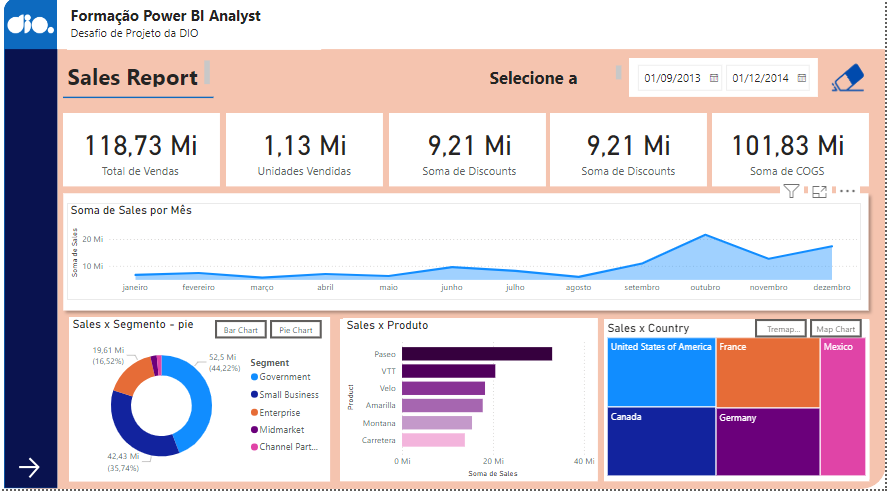

The page's visual inventory and layout, read from the dashboard file:
{"tool":"powerbi","page":{"name":"Vendas","canvas":[1280,720],"ordinal":0},"visuals":[{"type":"shape","box":[10,12.8,1270,707],"z":0},{"type":"slicer","fields":{"Values":["financials.Date"]},"box":[909.4,99.8,272.2,55.6],"z":0,"group":"g2"},{"type":"shape","box":[95.5,139.7,216.7,32.8],"z":0,"group":"g5"},{"type":"shape","box":[95.5,179.2,226.5,105.7],"z":0,"group":"g1"},{"type":"donutChart","title":"Sales x Segmento - pie","fields":{"Y":["Sum(financials. Sales)"],"Category":["financials.Segment"]},"box":[102.6,471.8,376.3,236.6],"z":0,"group":"g4"},{"type":"map","title":"Sales x Country","fields":{"Category":["financials.Country"],"Size":["Sum(financials. Sales)"]},"box":[873.8,476,382,228.1],"z":0,"group":"g3"},{"type":"actionButton","title":"Botão - bar","box":[312.8,476.4,74.5,26.6],"z":500,"group":"g4"},{"type":"actionButton","title":"Botão -pie","box":[392.6,476.4,74.5,26.6],"z":750,"group":"g4"},{"type":"shape","box":[10.1,13.4,77.2,706.3],"z":1000},{"type":"textbox","box":[96.9,98.4,215.2,48.5],"z":1000,"group":"g5"},{"type":"textbox","box":[704.1,105.5,199.6,45.6],"z":1000,"group":"g2"},{"type":"shape","box":[330.2,179.2,226.5,105.7],"z":1000,"group":"g1"},{"type":"treemap","title":"Sales x Country","fields":{"Group":["financials.Country"],"Values":["Sum(financials. Sales)"]},"box":[873.8,477.5,382,228.1],"z":1000,"group":"g3"},{"type":"actionButton","title":"Botão - map","box":[1170.8,475.2,74.5,26.6],"z":1250,"group":"g3"},{"type":"actionButton","title":"Botão - tremap","box":[1090.9,475.2,74.5,26.6],"z":1500,"group":"g3"},{"type":"shape","box":[10.1,13.4,77.2,73.8],"z":2000},{"type":"actionButton","box":[1195.9,104.1,59.9,51.3],"z":2000,"group":"g2"},{"type":"shape","box":[565.1,179.2,226.5,105.7],"z":2000,"group":"g1"},{"type":"image","title":"logo_dio","box":[10.1,18.5,77.2,62.1],"z":3000},{"type":"image","title":"clean","box":[1195.9,99.8,59.9,55.6],"z":3000,"group":"g2"},{"type":"shape","box":[796.6,179.2,226.5,105.7],"z":3000,"group":"g1"},{"type":"shape","box":[86.9,12.8,1193.1,74.1],"z":4000},{"type":"shape","box":[1029.7,179.2,226.5,105.7],"z":4000,"group":"g1"},{"type":"textbox","box":[100.7,18.5,365.7,68.8],"z":5000},{"type":"card","fields":{"Values":["Sum(financials. Sales)"]},"box":[101.2,179.6,211,105.5],"z":5000,"group":"g1"},{"type":"group","id":"g1","title":"Cartões","box":[95.5,179.2,1160.7,105.9],"z":6000},{"type":"card","fields":{"Values":["Sum(financials.Units Sold)"]},"box":[337.9,179.6,211,105.5],"z":6000,"group":"g1"},{"type":"card","fields":{"Values":["Sum(financials.Discounts)"]},"box":[804,179.6,211,105.5],"z":7000,"group":"g1"},{"type":"shape","box":[86.9,285.1,1177.4,186.7],"z":7000},{"type":"card","fields":{"Values":["Sum(financials.Discounts)"]},"box":[574.5,179.6,211,105.5],"z":8000,"group":"g1"},{"type":"shape","box":[494.6,474.7,370.6,233.8],"z":8000},{"type":"card","fields":{"Values":["Sum(financials.COGS)"]},"box":[1033.4,179.6,211,105.5],"z":9000,"group":"g1"},{"type":"shape","box":[873.8,474.7,382,233.8],"z":9000},{"type":"areaChart","fields":{"Category":["financials.Date.Variation.Hierarquia de datas.Mês"],"Y":["Sum(financials. Sales)"]},"box":[101.2,307.9,1143.2,139.7],"z":10000},{"type":"clusteredBarChart","title":"Sales x Produto","fields":{"Y":["Sum(financials. Sales)"],"Category":["financials.Product"]},"box":[498.3,474.5,366.9,233.8],"z":11000},{"type":"group","id":"g2","title":"Filtro por data","box":[704.1,99.8,551.6,55.6],"z":12000},{"type":"group","id":"g3","title":"Sales x país","box":[873.8,475.2,382,230.3],"z":13000},{"type":"group","id":"g4","title":"Sales x Segmento","box":[96,471.8,382.9,236.8],"z":14000},{"type":"group","id":"g5","title":"Title report","box":[95.5,98.4,216.7,74.1],"z":15000},{"type":"actionButton","box":[25.9,669,48.8,39.6],"z":16000}]}

Visuals, with their boxes on the page's 1280x720 design canvas (x1, y1, x2, y2). These are canvas units, not pixel positions in the 888x495 screenshot, which may show the page scaled, cropped or inside an application window:
shape: rect(10, 13, 1280, 720)
slicer - financials.Date: rect(909, 100, 1182, 155)
shape: rect(96, 140, 312, 172)
shape: rect(96, 179, 322, 285)
"Sales x Segmento - pie" donutChart: rect(103, 472, 479, 708)
"Sales x Country" map: rect(874, 476, 1256, 704)
"Botão - bar" actionButton: rect(313, 476, 387, 503)
"Botão -pie" actionButton: rect(393, 476, 467, 503)
shape: rect(10, 13, 87, 720)
textbox: rect(97, 98, 312, 147)
textbox: rect(704, 106, 904, 151)
shape: rect(330, 179, 557, 285)
"Sales x Country" treemap: rect(874, 478, 1256, 706)
"Botão - map" actionButton: rect(1171, 475, 1245, 502)
"Botão - tremap" actionButton: rect(1091, 475, 1165, 502)
shape: rect(10, 13, 87, 87)
actionButton: rect(1196, 104, 1256, 155)
shape: rect(565, 179, 792, 285)
"logo_dio" image: rect(10, 18, 87, 81)
"clean" image: rect(1196, 100, 1256, 155)
shape: rect(797, 179, 1023, 285)
shape: rect(87, 13, 1280, 87)
shape: rect(1030, 179, 1256, 285)
textbox: rect(101, 18, 466, 87)
card - Sum(financials. Sales): rect(101, 180, 312, 285)
"Cartões" group: rect(96, 179, 1256, 285)
card - Sum(financials.Units Sold): rect(338, 180, 549, 285)
card - Sum(financials.Discounts): rect(804, 180, 1015, 285)
shape: rect(87, 285, 1264, 472)
card - Sum(financials.Discounts): rect(574, 180, 786, 285)
shape: rect(495, 475, 865, 708)
card - Sum(financials.COGS): rect(1033, 180, 1244, 285)
shape: rect(874, 475, 1256, 708)
areaChart - financials.Date.Variation.Hierarquia de datas.Mês x Sum(financials. Sales): rect(101, 308, 1244, 448)
"Sales x Produto" clusteredBarChart: rect(498, 474, 865, 708)
"Filtro por data" group: rect(704, 100, 1256, 155)
"Sales x país" group: rect(874, 475, 1256, 706)
"Sales x Segmento" group: rect(96, 472, 479, 709)
"Title report" group: rect(96, 98, 312, 172)
actionButton: rect(26, 669, 75, 709)
